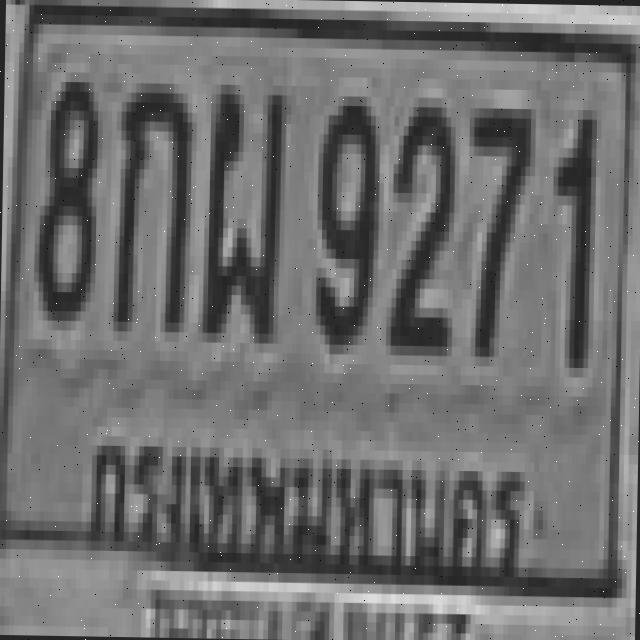1: (550, 104, 592, 363)
10GorGai: (108, 72, 188, 322)
2: (386, 96, 450, 346)
37PhorPhueng: (200, 74, 284, 333)
7: (465, 103, 526, 352)
8: (33, 71, 98, 312)
9: (310, 86, 376, 345)
Bangkok: (79, 411, 537, 598)
